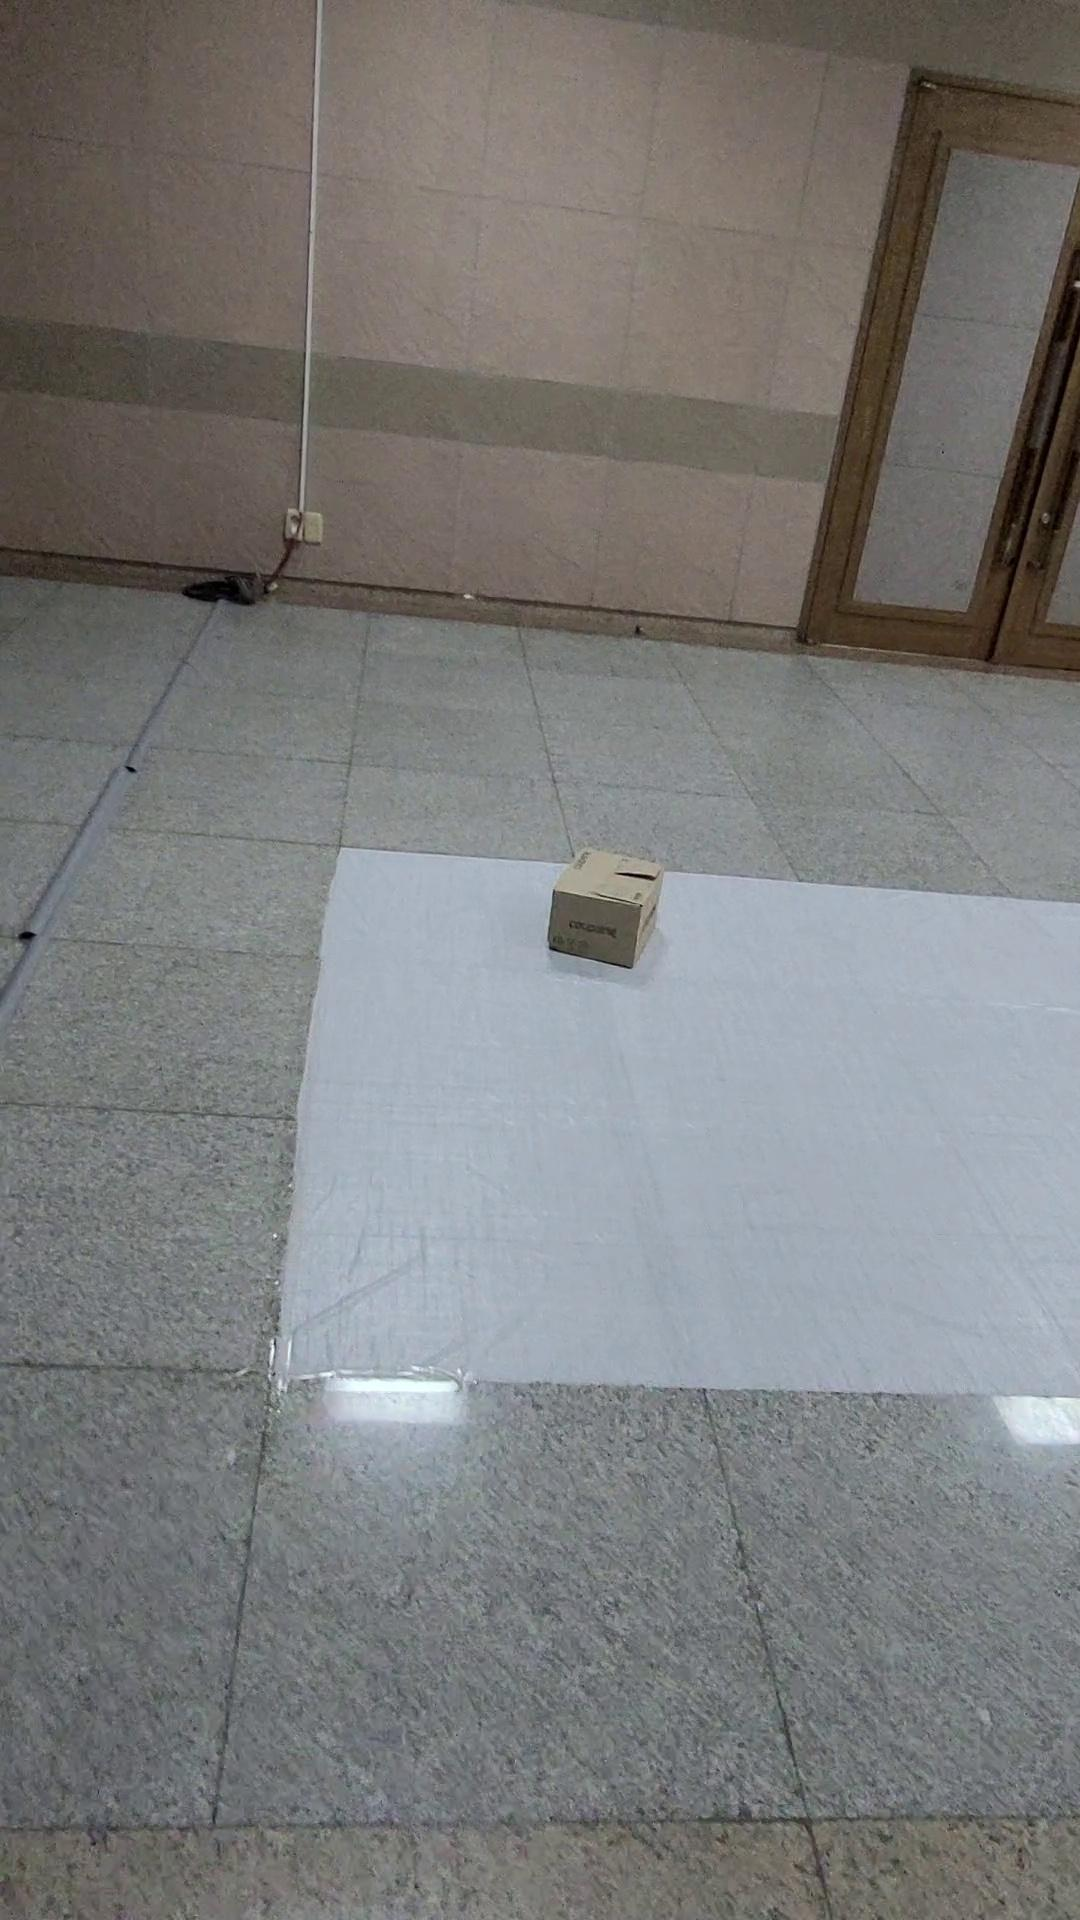Box: (506, 828, 684, 998)
